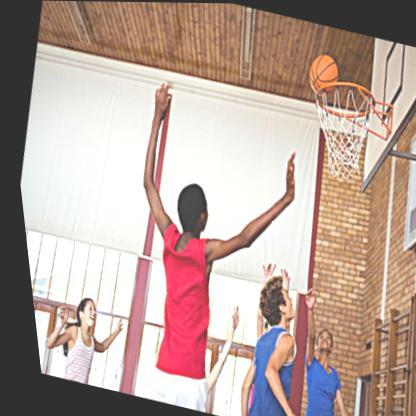basketball: (302, 50, 343, 97)
rim: (295, 74, 382, 182)
